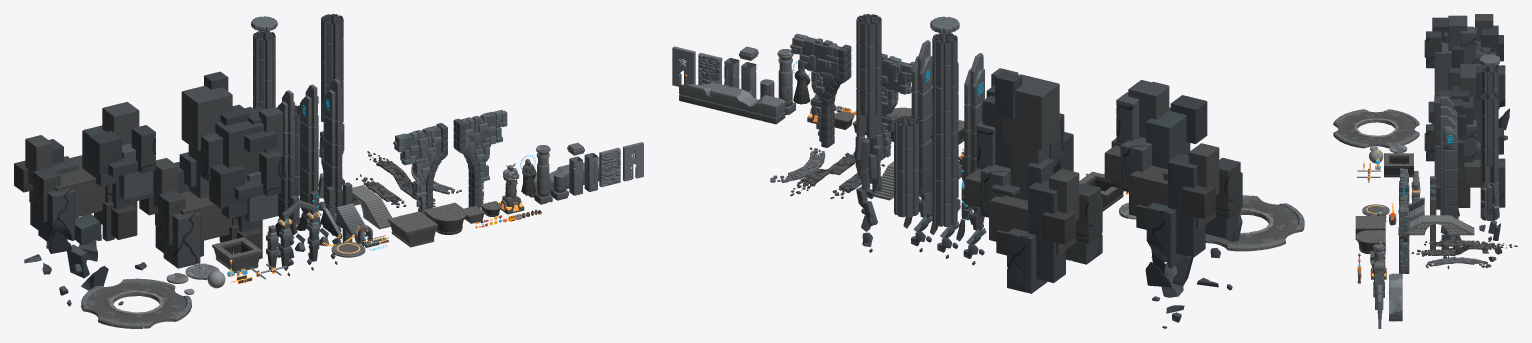
Rendered from one_file_assets.glb.
3 views of the same model, side by side, from view 1: azimuth 30°, elevation 25°; view 2: azimuth 150°, elevation 25°; view 3: azimuth 270°, elevation 25° (orthographic). The views are drawn at different scales.
Parts seen in each view (by area): view 1: ruins_001, ruins_002, gate_001, circle_002, pillar_011, pillar_010, pillar_009, pillar_005, pillar_007, passage_001, platform_001, obstacle_11_001 (+11 smaller); view 2: ruins_001, ruins_002, gate_001, pillar_009, pillar_007, pillar_011, pillar_005, circle_002, ruins_003, pillar_008, column_001, wall_002 (+8 smaller); view 3: ruins_001, ruins_002, pillar_009, circle_002, pillar_011, gate_001, stairs_002, ruins_003, obstacle_11_001, ruins_road_002, platform_002, pillar_007 (+14 smaller).
Boxes of the visible parts, x1,y1,x2,y2 form: ruins_001: [139, 71, 283, 268]; ruins_002: [14, 102, 155, 306]; gate_001: [393, 110, 507, 215]; circle_002: [81, 278, 191, 328]; pillar_011: [319, 79, 342, 264]; pillar_010: [294, 84, 320, 270]; pillar_009: [318, 14, 344, 210]; pillar_005: [275, 90, 297, 276]; pillar_007: [253, 31, 275, 109]; passage_001: [277, 200, 321, 268]; platform_001: [388, 211, 437, 247]; obstacle_11_001: [212, 237, 261, 273]; ruins_001: [965, 68, 1102, 293]; ruins_002: [1104, 80, 1242, 328]; gate_001: [790, 33, 914, 160]; pillar_009: [854, 14, 884, 252]; pillar_007: [932, 32, 957, 226]; pillar_011: [903, 40, 932, 252]; pillar_005: [956, 53, 986, 265]; circle_002: [1205, 195, 1304, 251]; ruins_003: [679, 82, 785, 124]; pillar_008: [894, 115, 919, 217]; column_001: [777, 49, 795, 114]; wall_002: [672, 46, 695, 86]; ruins_001: [1424, 63, 1505, 209]; ruins_002: [1424, 14, 1509, 140]; pillar_009: [1479, 93, 1502, 267]; circle_002: [1333, 109, 1419, 148]; pillar_011: [1440, 115, 1462, 268]; gate_001: [1399, 168, 1409, 273]; stairs_002: [1398, 215, 1474, 235]; ruins_003: [1389, 273, 1402, 321]; obstacle_11_001: [1384, 153, 1413, 177]; ruins_road_002: [1411, 242, 1517, 256]; platform_002: [1355, 230, 1385, 253]; pillar_007: [1480, 66, 1498, 95].
Bounding box in the file's own units: 173 × 70.43 × 61.4.
5 materials, 5 textured.
